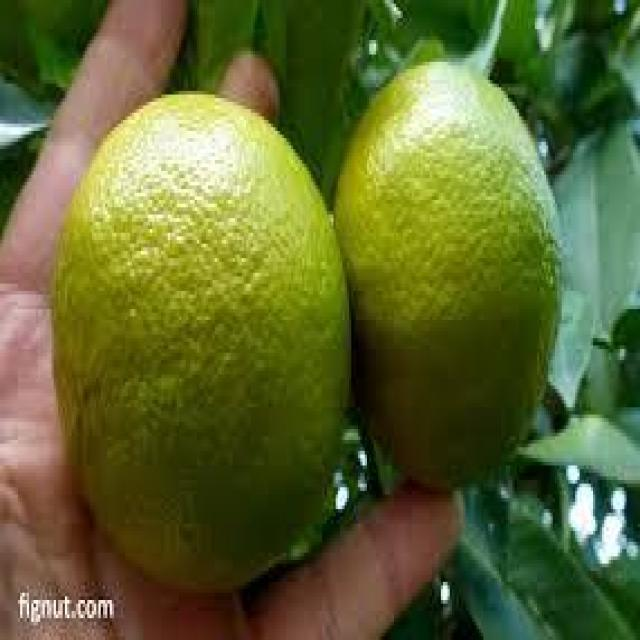Jeruk Belum Matang: (56, 91, 354, 593), (336, 62, 564, 487)
